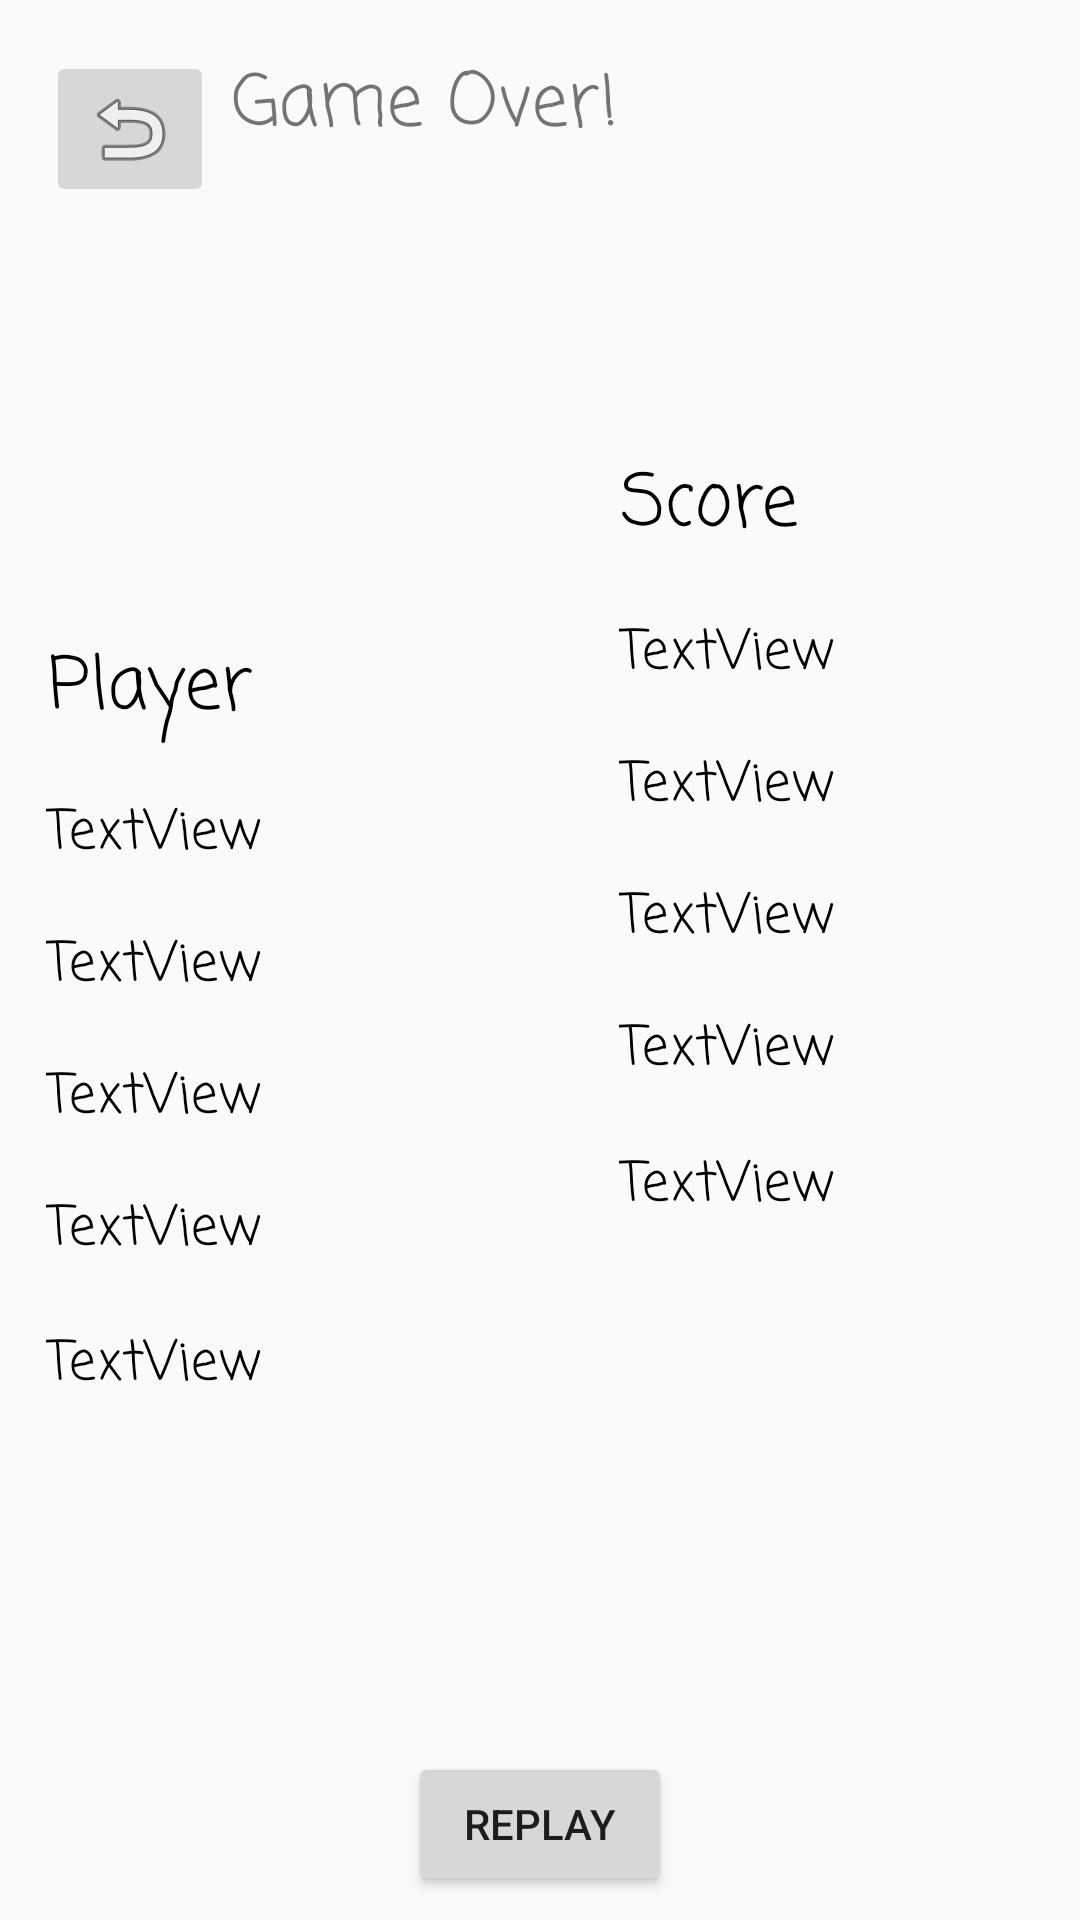

Screen size 1080 x 1920. Icon name, then its box in pixels as rect(x1, y1, x2, y2):
revert: rect(58, 69, 202, 189)
